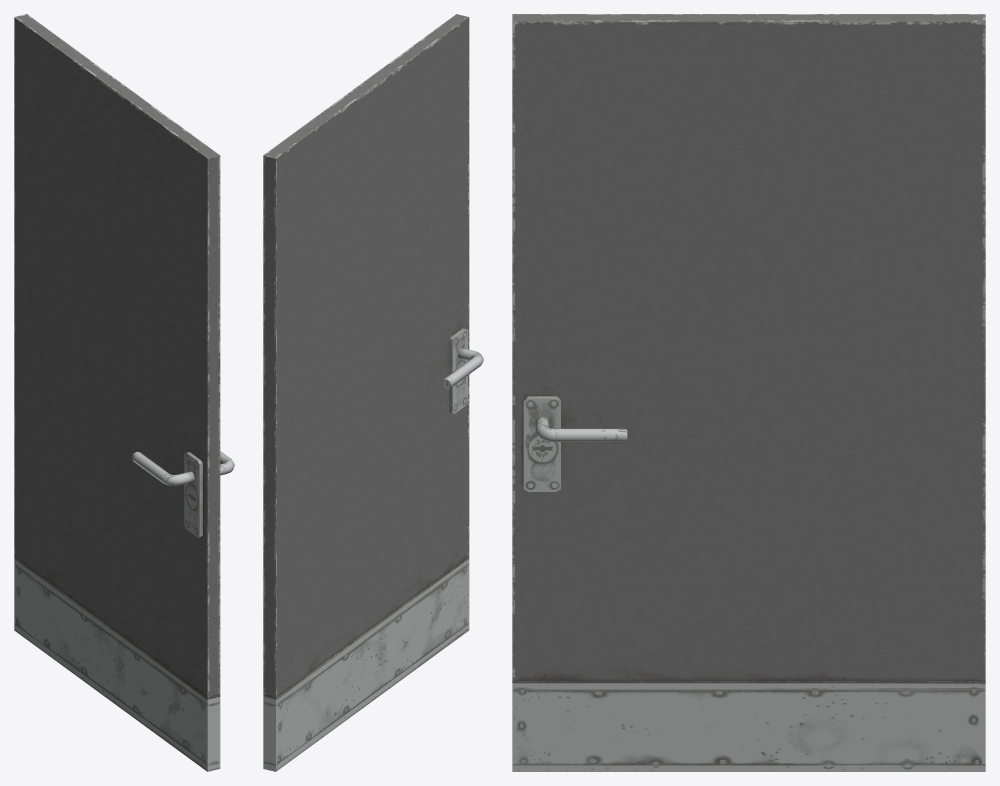
The model's file is SM_Door_01.fbx.
3 views of the same model, side by side, from view 1: azimuth 30°, elevation 25°; view 2: azimuth 150°, elevation 25°; view 3: azimuth 270°, elevation 25° (orthographic). The views are drawn at different scales.
Parts seen in each view (by area): view 1: SM_Door_01; view 2: SM_Door_01; view 3: SM_Door_01.
Boxes of the visible parts, box(x1,y1,x2,y2) form: SM_Door_01: box(14, 14, 234, 771); SM_Door_01: box(263, 14, 483, 771); SM_Door_01: box(512, 14, 985, 771).
Bounding box in the file's own units: 25.65 × 210 × 120.
